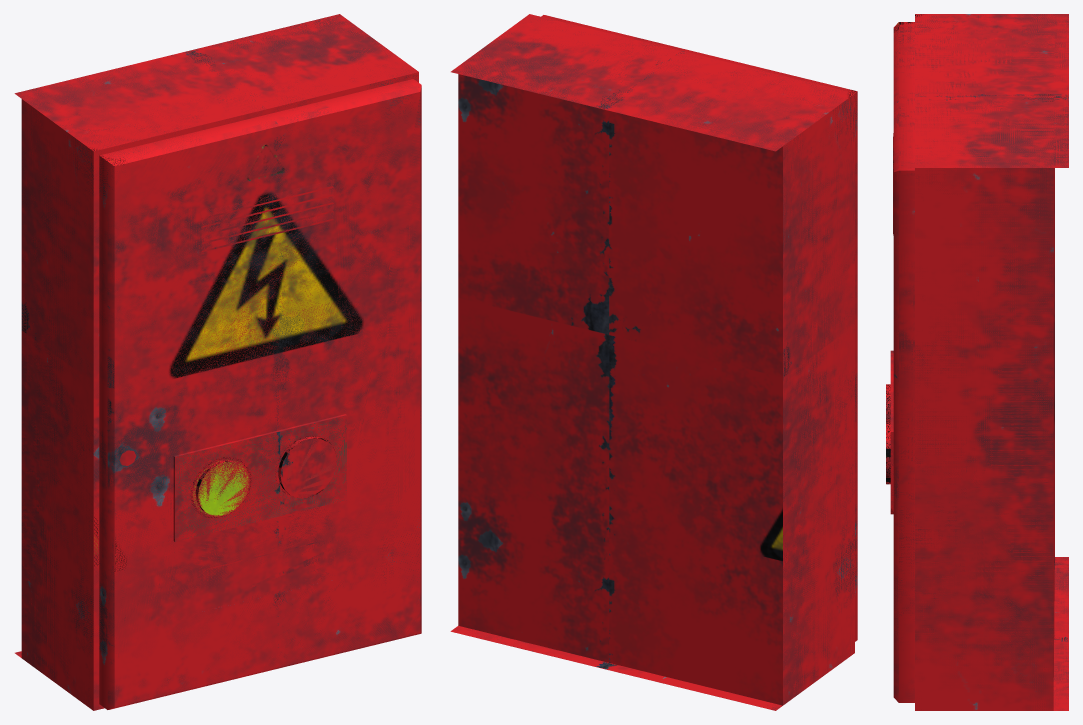
The model's file is powerBox.fbx.
The picture shows the model from 3 angles, left to right: view 1: azimuth 30°, elevation 25°; view 2: azimuth 150°, elevation 25°; view 3: azimuth 270°, elevation 25°; orthographic projection. The views are drawn at different scales.
Visible parts, largest first — view 1: Model; view 2: Model; view 3: Model.
Boxes of the visible parts, x1,y1,x2,y2 form: Model: (14,14,421,710); Model: (450,14,857,710); Model: (886,14,1068,710).
Bounding box in the file's own units: 746 × 1225 × 374.
